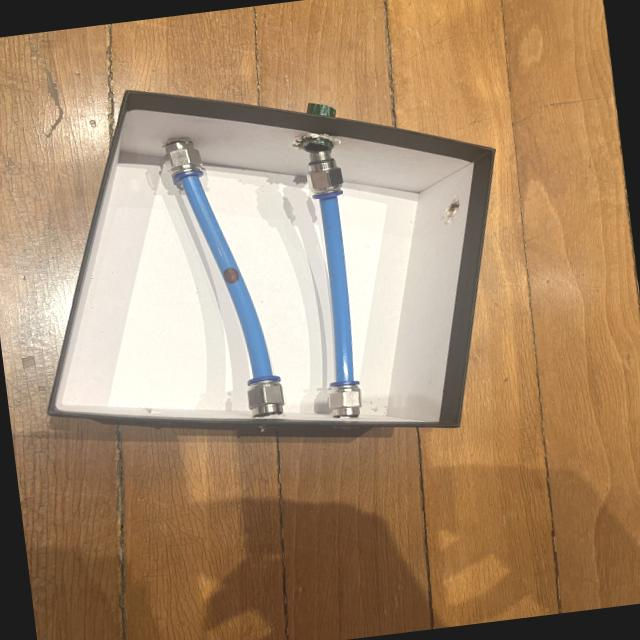hose_damage: (220, 266, 240, 286)
